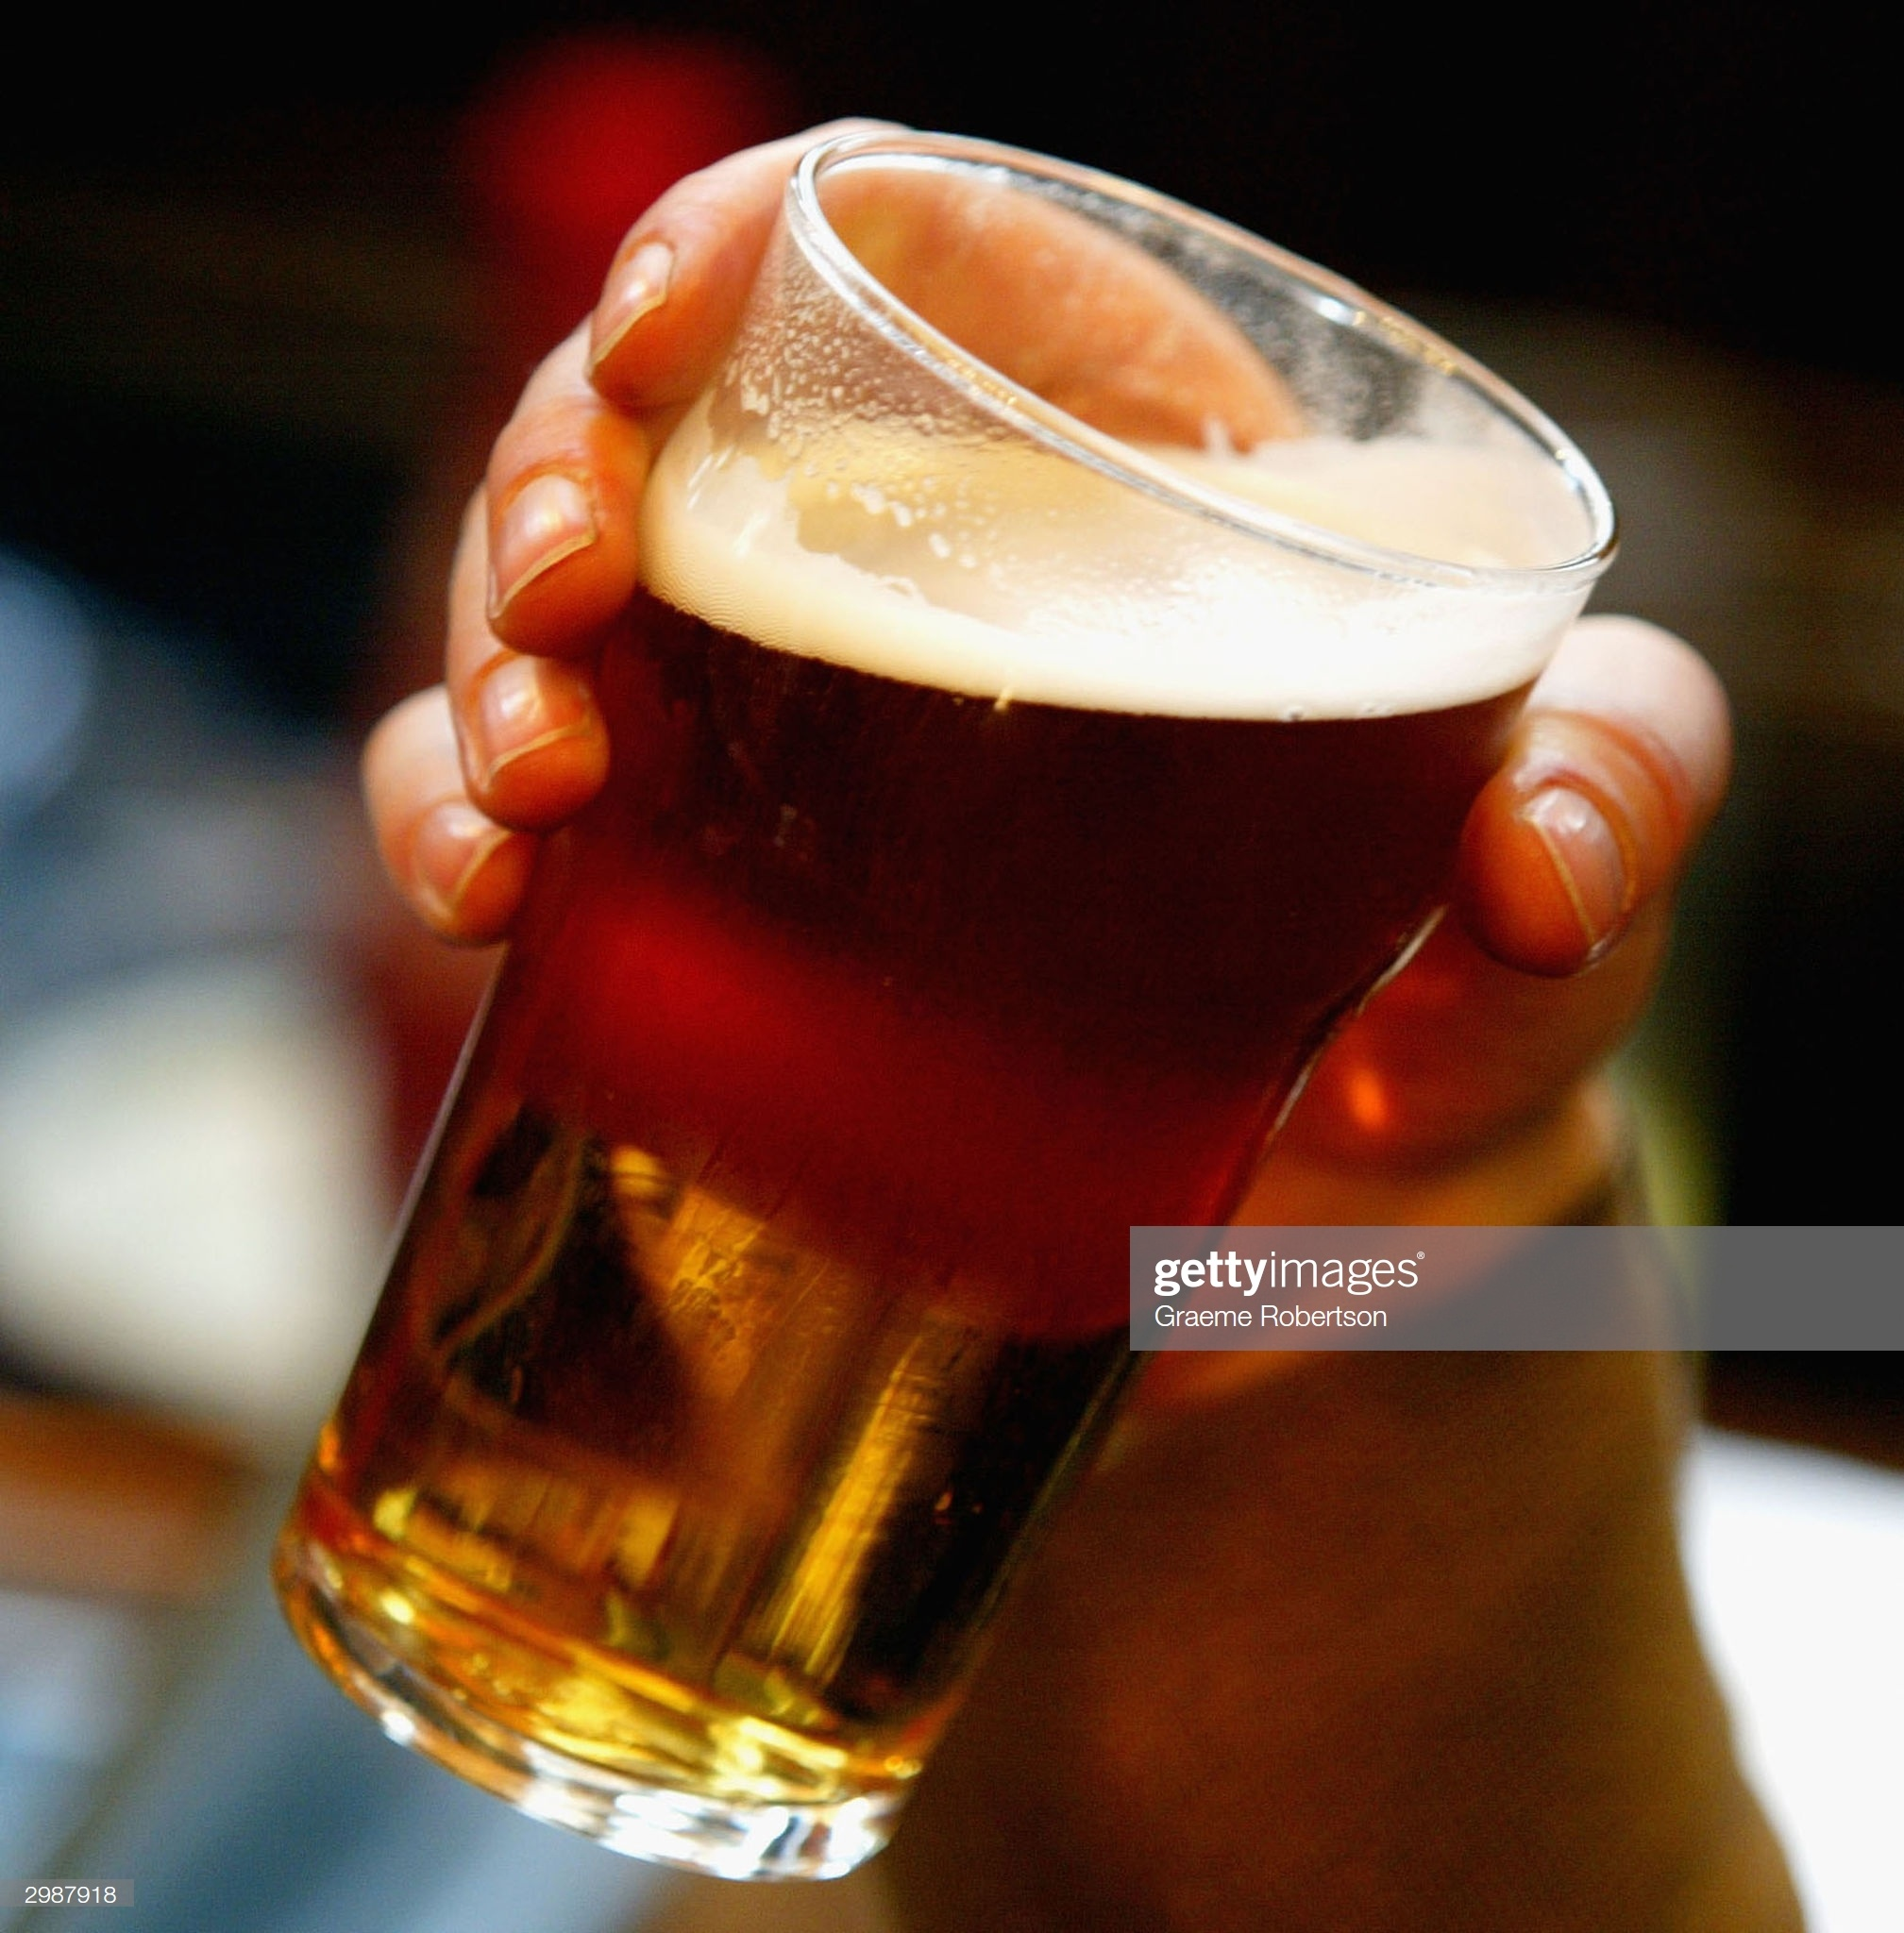glassBeer: (281, 150, 1646, 1865)
